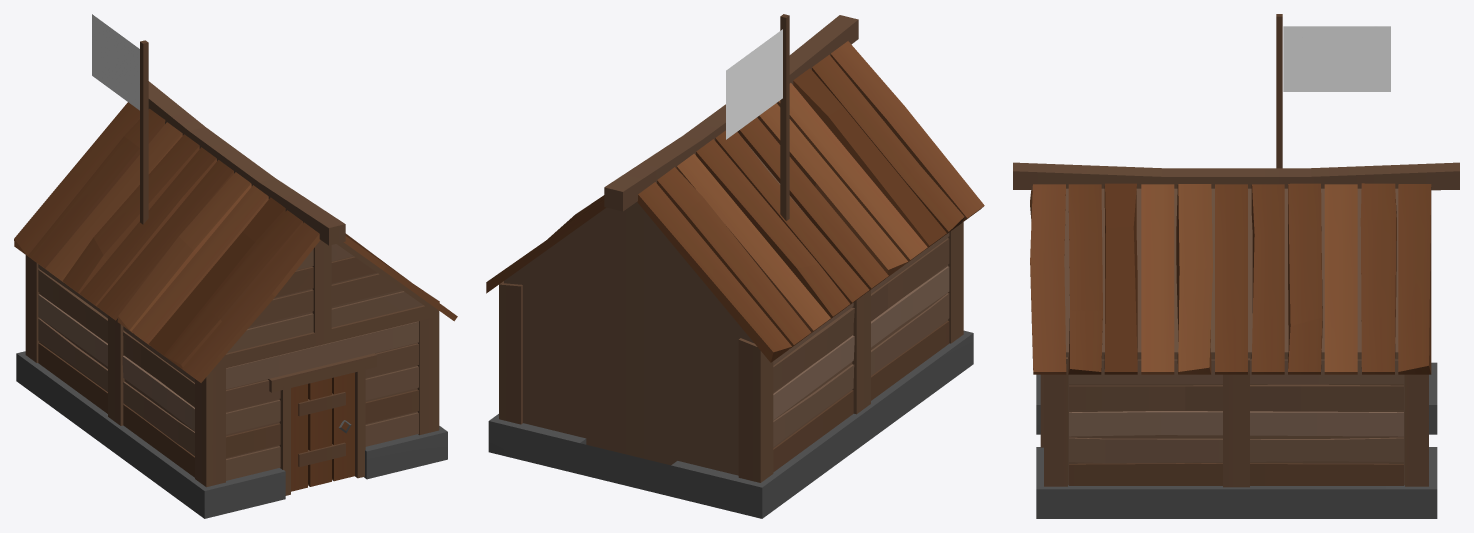
The model's file is Town Hall Level 1.glb.
3 views of the same model, side by side, from view 1: azimuth 30°, elevation 25°; view 2: azimuth 150°, elevation 25°; view 3: azimuth 270°, elevation 25° (orthographic). The views are drawn at different scales.
Visible parts, largest first — view 1: Town Hall Level 1 Base, Door.001, Flag.001, Town Hall Level 1 Base.001; view 2: Town Hall Level 1 Base, Flag.001, Town Hall Level 1 Base.001; view 3: Town Hall Level 1 Base, Flag.001, Town Hall Level 1 Base.001.
Part boxes in pixels (x1=…): Town Hall Level 1 Base: x1=14, y1=81, x2=457, y2=518; Door.001: x1=291, y1=372, x2=354, y2=491; Flag.001: x1=92, y1=14, x2=139, y2=110; Town Hall Level 1 Base.001: x1=140, y1=40, x2=148, y2=224; Town Hall Level 1 Base: x1=486, y1=15, x2=984, y2=518; Flag.001: x1=726, y1=29, x2=782, y2=139; Town Hall Level 1 Base.001: x1=780, y1=14, x2=789, y2=220; Town Hall Level 1 Base: x1=1013, y1=162, x2=1459, y2=518; Flag.001: x1=1283, y1=26, x2=1390, y2=91; Town Hall Level 1 Base.001: x1=1276, y1=14, x2=1282, y2=168.
Bounding box in the file's own units: 4.44 × 6.2 × 6.19.
Materials: 2 (2 with a texture image).
